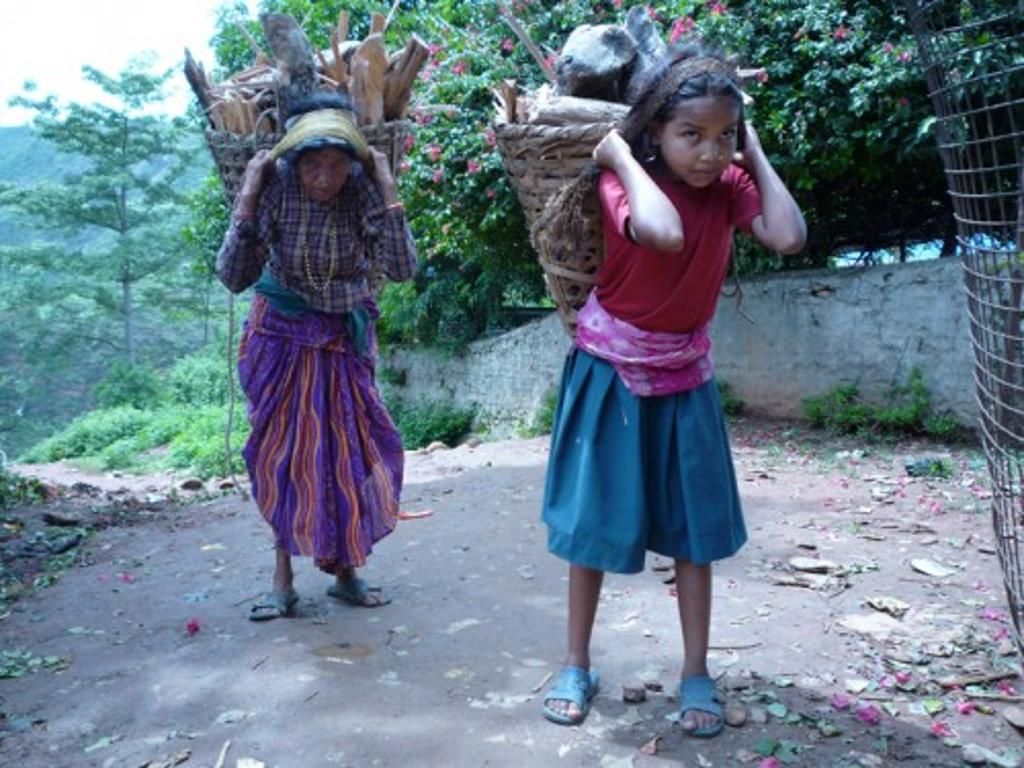face: (662, 105, 737, 186), (298, 151, 351, 199)
